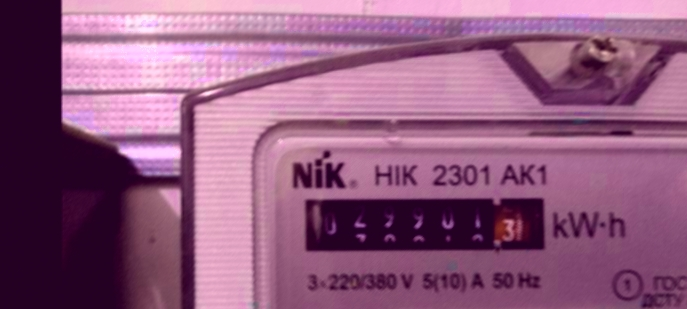0: (320, 208, 338, 235), (439, 202, 455, 231)
1: (470, 201, 483, 229)
2: (350, 202, 368, 229)
3: (499, 216, 516, 242)
9: (380, 202, 396, 229), (411, 203, 424, 230)
screen: (294, 187, 555, 260)
